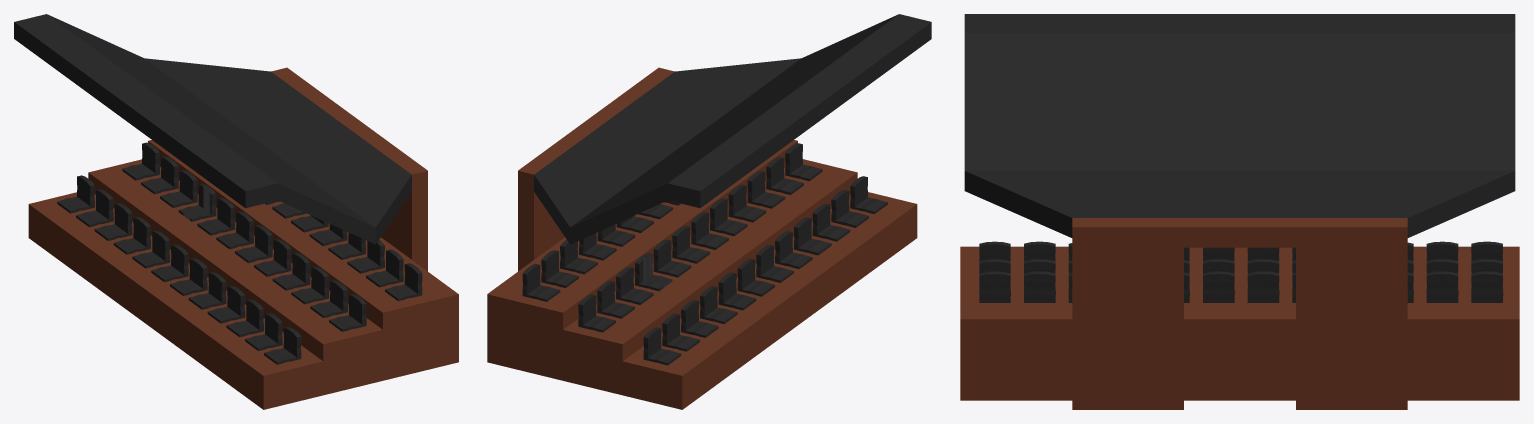
Rendered from bancoC.fbx.
The picture shows the model from 3 angles, left to right: view 1: azimuth 30°, elevation 25°; view 2: azimuth 150°, elevation 25°; view 3: azimuth 270°, elevation 25°; orthographic projection. The views are drawn at different scales.
Visible parts, largest first — view 1: Cube.016; view 2: Cube.016; view 3: Cube.016.
Part boxes in pixels (left/top/right/bottom): Cube.016: left=14, top=14, right=458, bottom=409; Cube.016: left=487, top=14, right=931, bottom=409; Cube.016: left=960, top=14, right=1519, bottom=409.
Size of the model in its own units: 1400 by 1300 by 2500.
